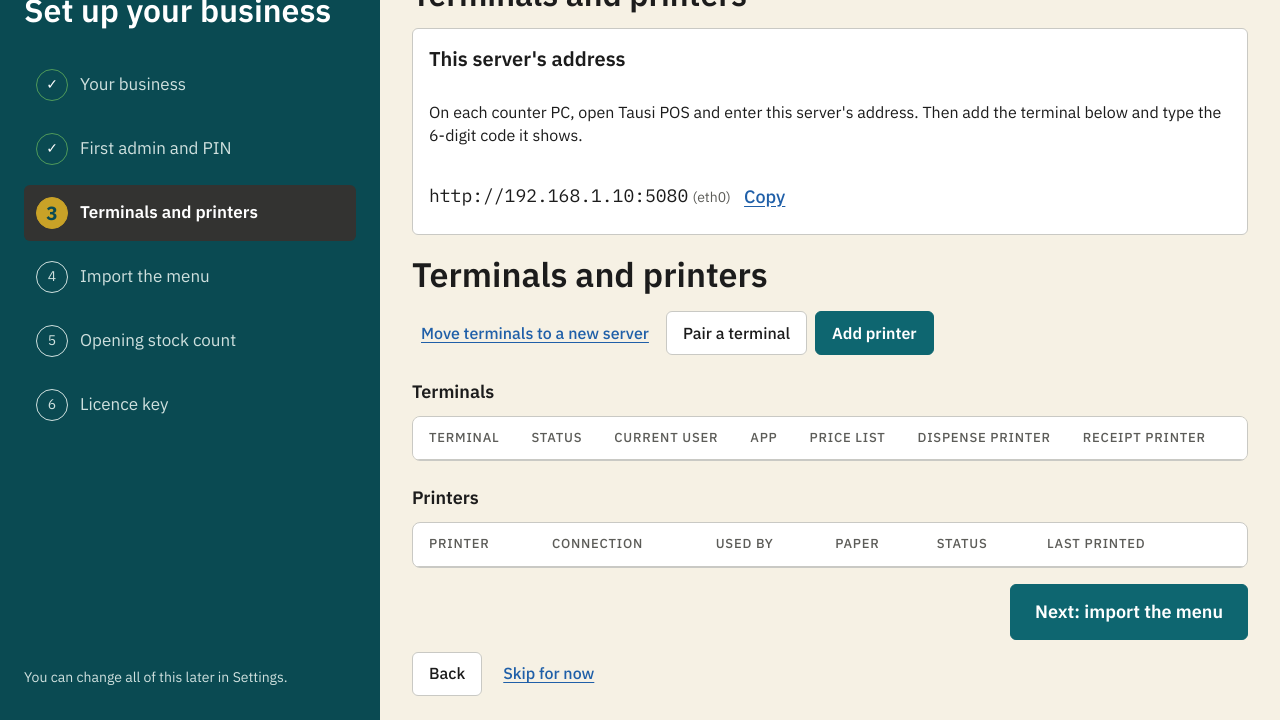
Test: Setup wizard › step 3 shows the server address to type on each counter PC and can be skipped
(page scrolled)
Expected: the text "http://192.168.1.10:5080" is shown, [429, 185, 688, 208]
Expected: the button "Copy" is shown, [735, 174, 794, 218]
Click the button "Skip for now" at (549, 674), box [494, 652, 603, 696]
(page scrolled)
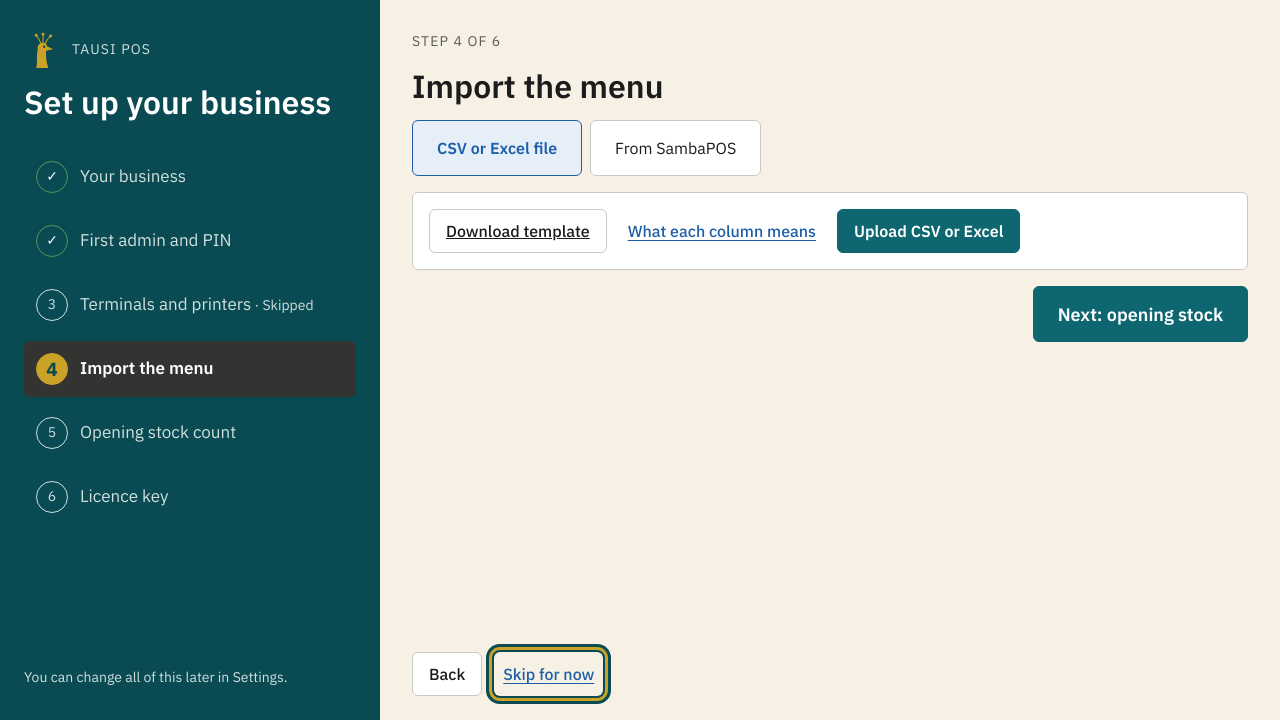
Expected: the text "Step 4 of 6" is shown, [412, 32, 501, 50]
